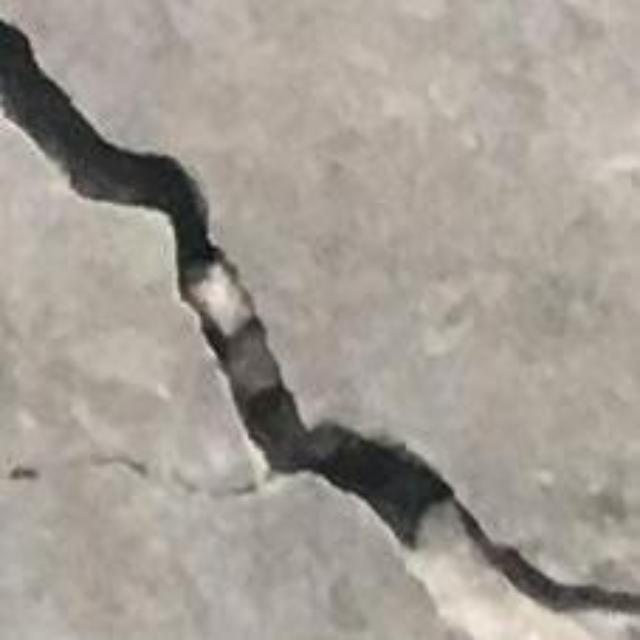crack: (0, 20, 639, 614)
